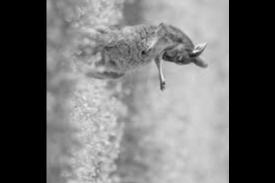Non_Gorille: (51, 1, 229, 127)
